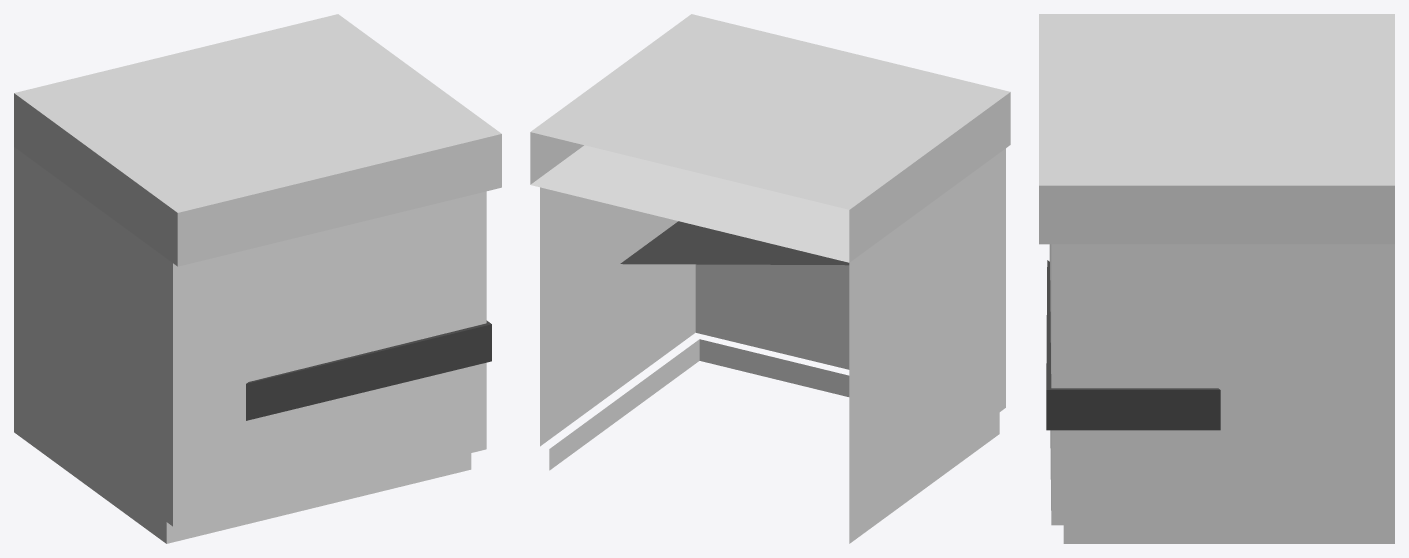
Rendered from table_d.fbx.
3 renders of one model, left to right at view 1: azimuth 30°, elevation 25°; view 2: azimuth 150°, elevation 25°; view 3: azimuth 270°, elevation 25°, orthographic. The views are drawn at different scales.
Visible parts, largest first — view 1: table_d; view 2: table_d; view 3: table_d.
Part boxes in pixels (x1,y1,x2,y2): table_d: (14,14,501,543); table_d: (530,14,1010,543); table_d: (1039,14,1394,543).
Bounding box in the file's own units: 1 × 1 × 0.875.
